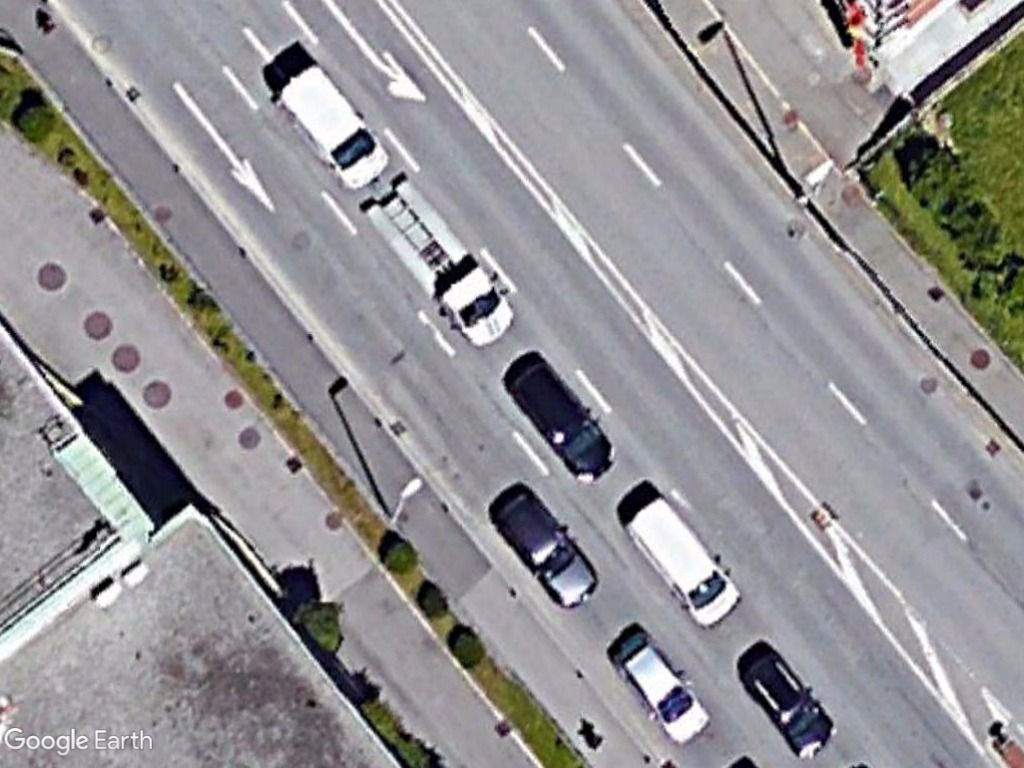car: (490, 489, 600, 612), (606, 624, 707, 747), (740, 641, 839, 763)
van: (274, 58, 395, 198), (629, 497, 741, 632), (510, 359, 619, 485)
